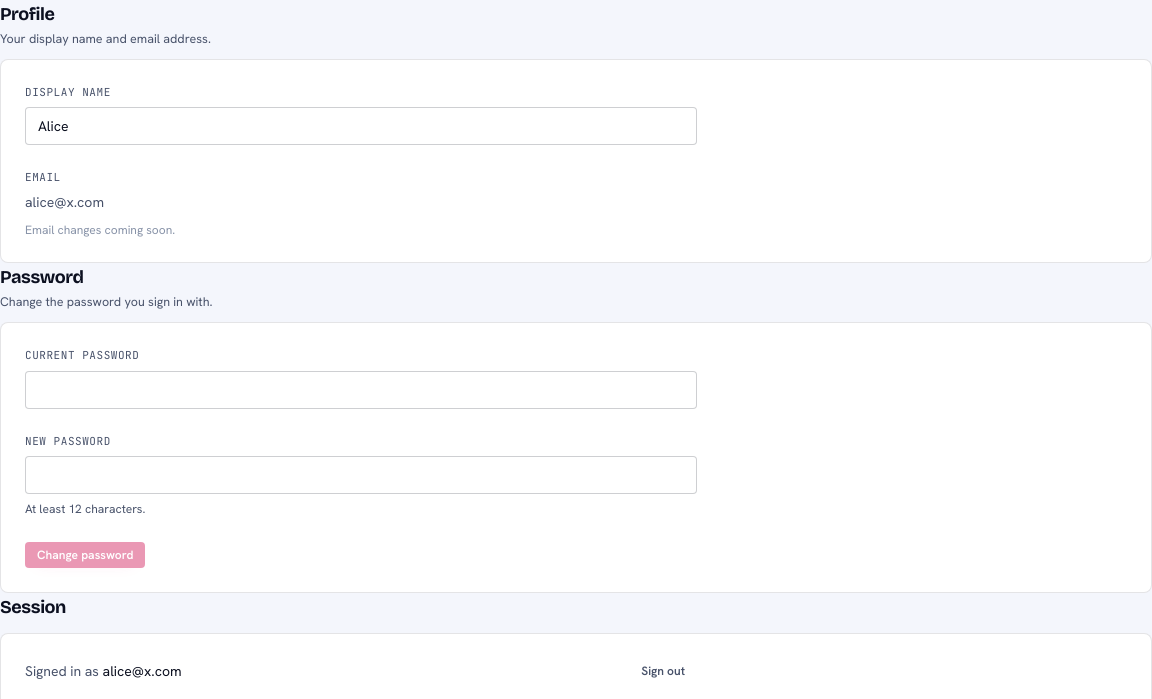
Account/Profile — password › passes the server's length policy through
In the password field labelled "Current password": (361, 390) x1=25 y1=370 x2=697 y2=408, type "old-password"
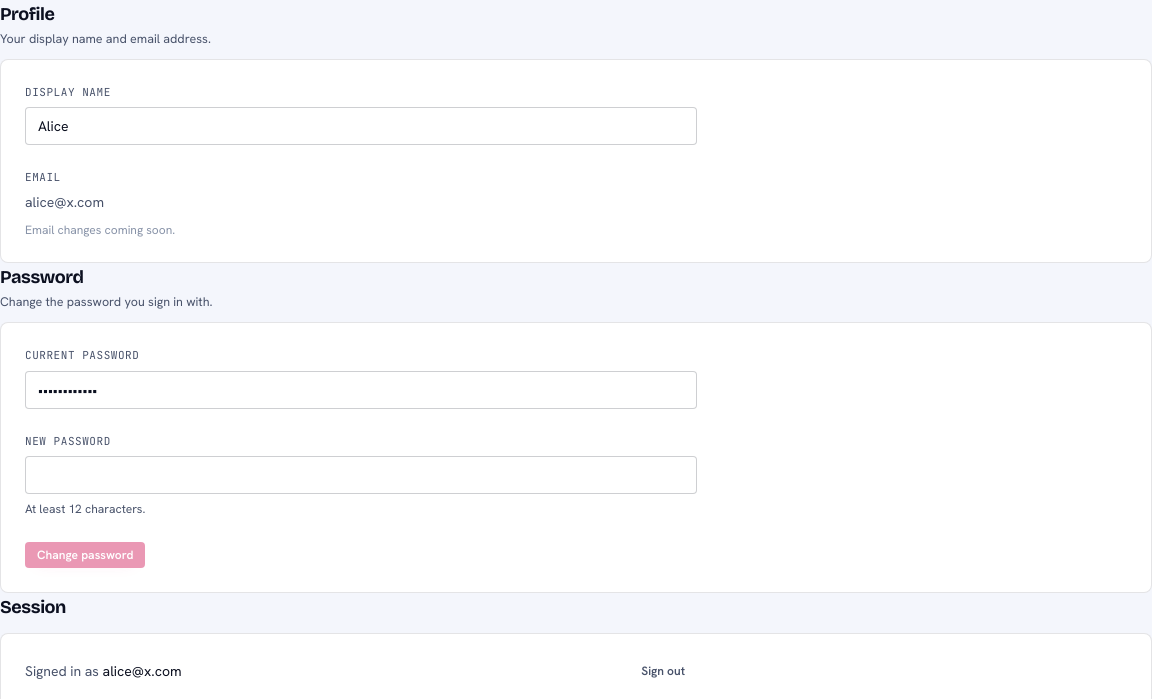
In the password field named "new password": (361, 475) x1=25 y1=456 x2=697 y2=494, type "a-much-longer-password"
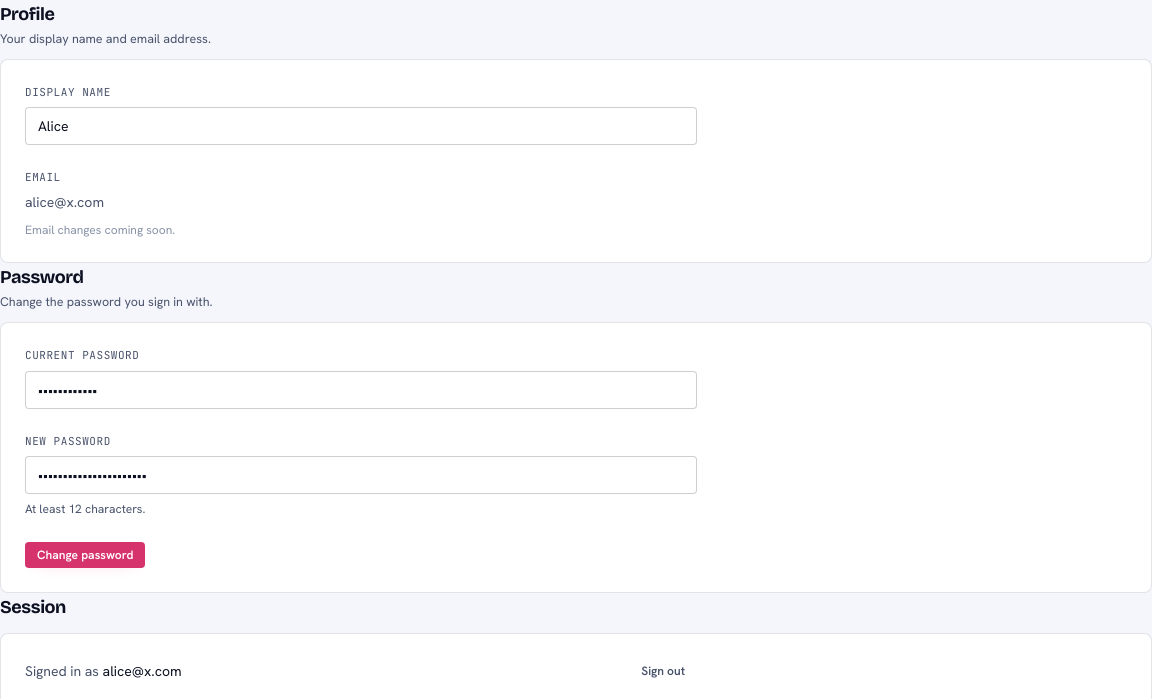
Click the button "Change password": (85, 555) x1=25 y1=542 x2=145 y2=568
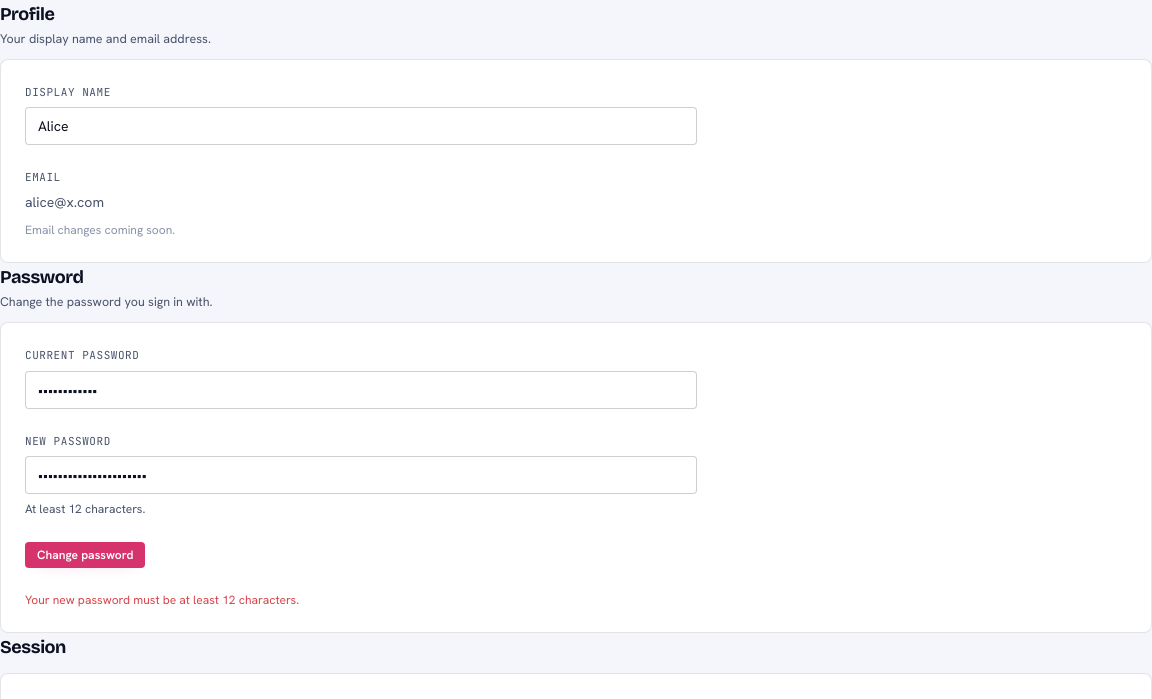
Expected: the text "At least 12 characters." is shown 2 times, x1=25 y1=501 x2=145 y2=517; x1=25 y1=592 x2=299 y2=608
Now the text "Your new password must be at least 12 characters." is shown, box x1=25 y1=592 x2=299 y2=608
